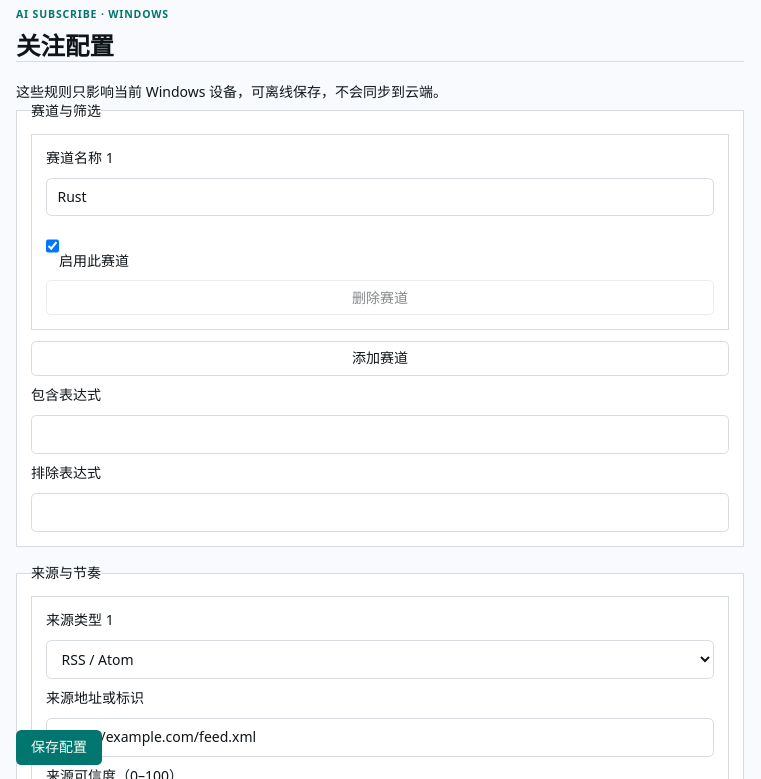
Test: configuration editor › saves a valid configuration directly without a risk confirmation
Click the button "保存配置". click: (59, 748)
box: [16, 730, 102, 765]
(page scrolled)
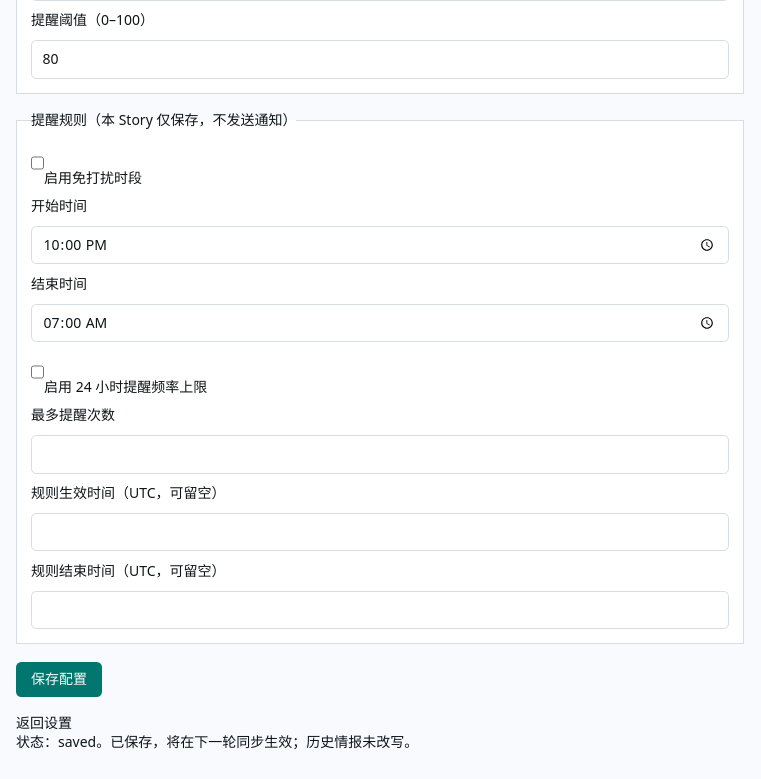
Result: the text "状态：saved。已保存，将在下一轮同步生效；历史情报未改写。" is shown at [16, 732, 418, 751]
